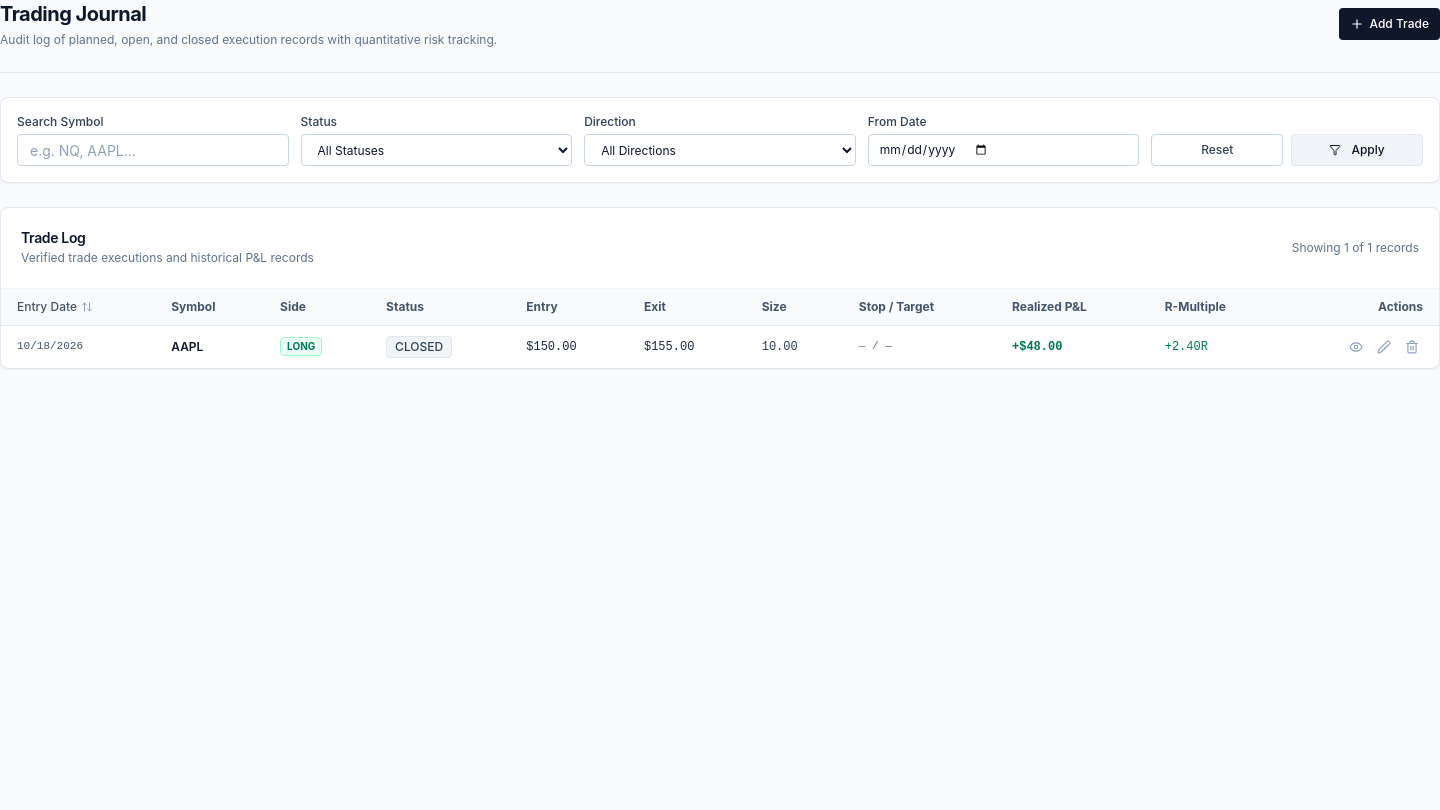
Test: AI Trade Review Assistant Frontend Integration › renders the "Review Trade with AI" action inside the trade details view
The image size is (1440, 810).
Expected: the text "AAPL" is shown, [155,325,264,368]
# Click view trade details
Click the button named "View details for trade 42 AAPL": (1356, 346) [1345,336,1367,358]
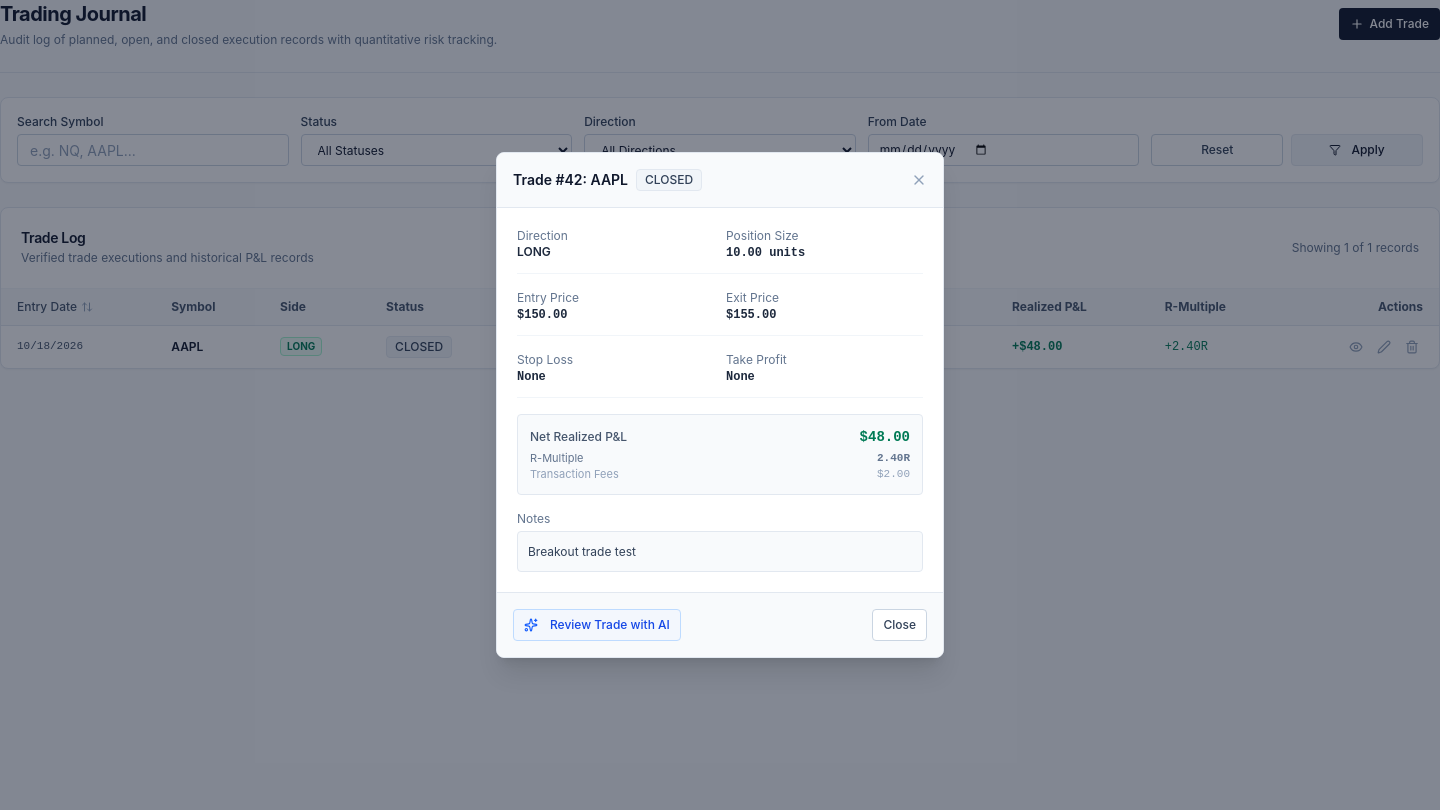
Expected: the button "Review Trade with AI" is shown, [513,609,681,641]
